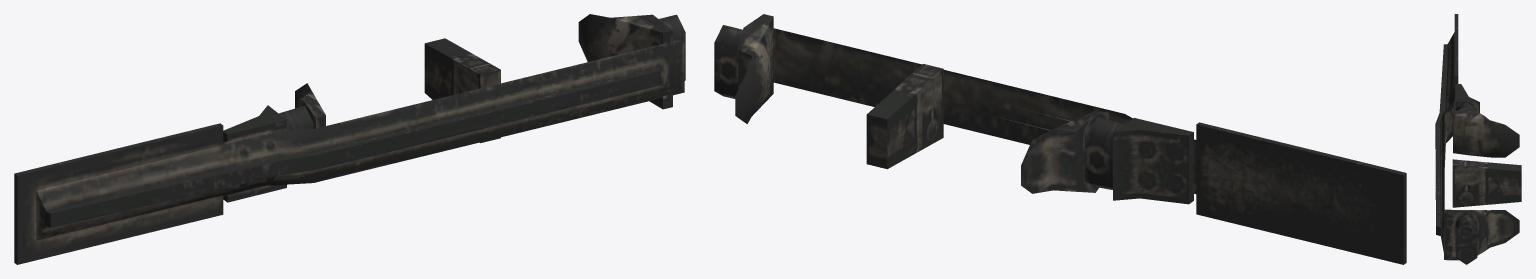
Rendered from segment_02_pair_1_L.glb.
The picture shows the model from 3 angles, left to right: view 1: azimuth 30°, elevation 25°; view 2: azimuth 150°, elevation 25°; view 3: azimuth 270°, elevation 25°; orthographic projection. The views are drawn at different scales.
Parts seen in each view (by area): view 1: set_0_group_0; view 2: set_0_group_0; view 3: set_0_group_0.
Part boxes in pixels (x1,y1,x2,y2): set_0_group_0: [14, 14, 685, 264]; set_0_group_0: [714, 14, 1406, 264]; set_0_group_0: [1435, 14, 1521, 264].
Bounding box in the file's own units: 1.29 × 0.1639 × 0.2326.
Materials: 1 (1 with a texture image).
